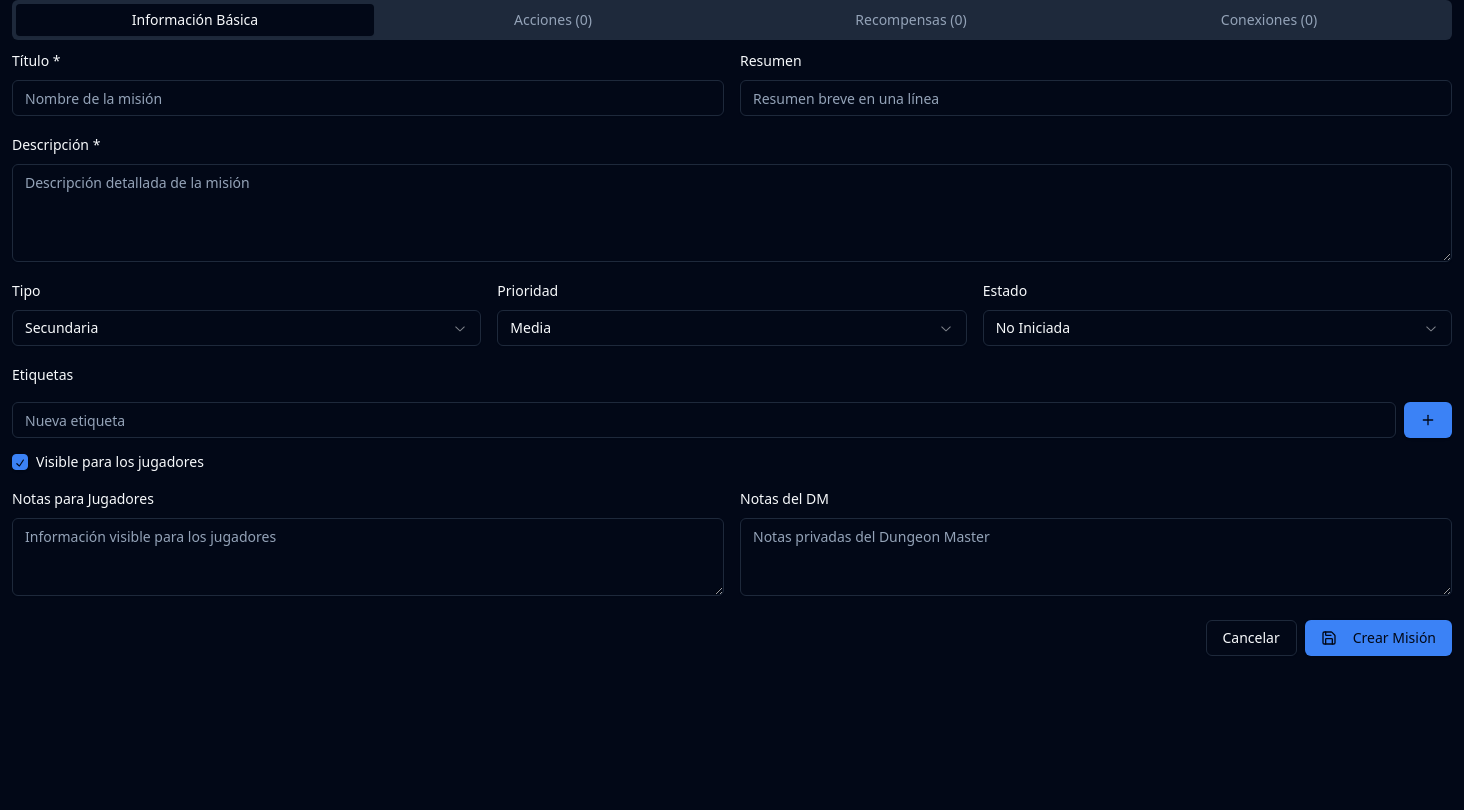
Test: Quest Components › QuestForm Component › allows adding and removing tags
Type "test-tag" into the field with placeholder "Nueva etiqueta". click: [704, 420]
box: [12, 402, 1396, 438]
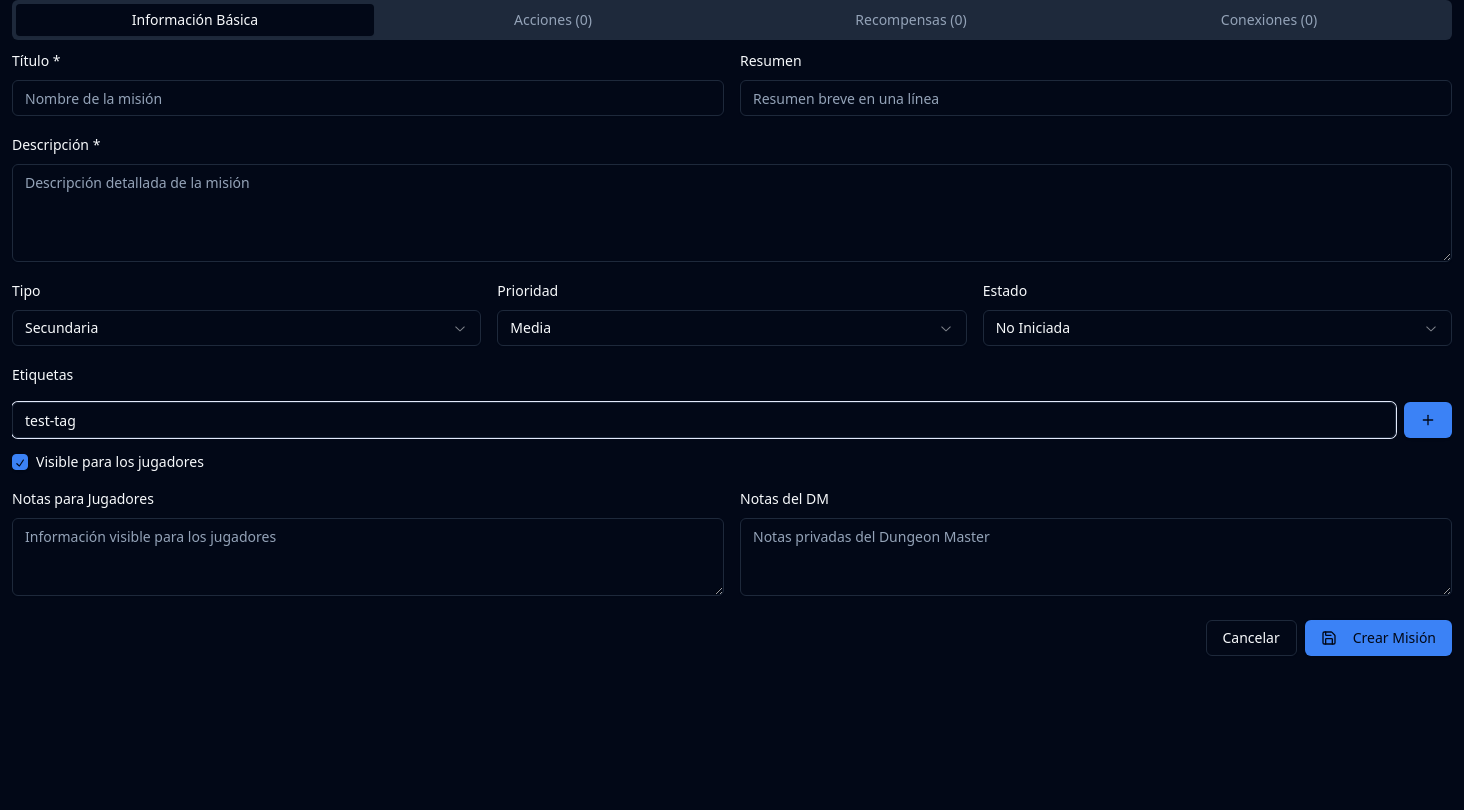
Click the 1st button. click: [1428, 420]
box: [1404, 402, 1452, 438]
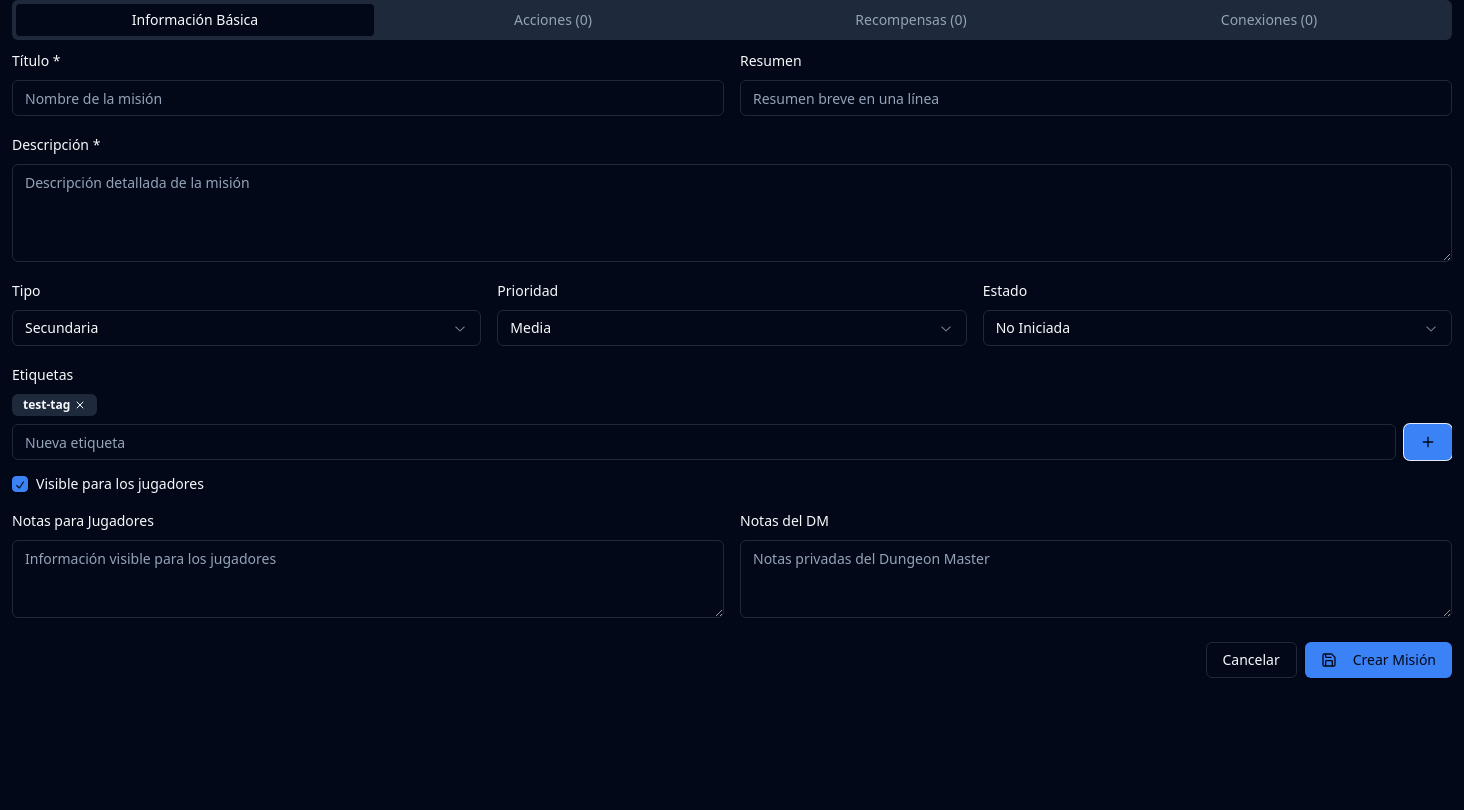
Check: the text "test-tag" is shown, box [12, 394, 97, 416]
